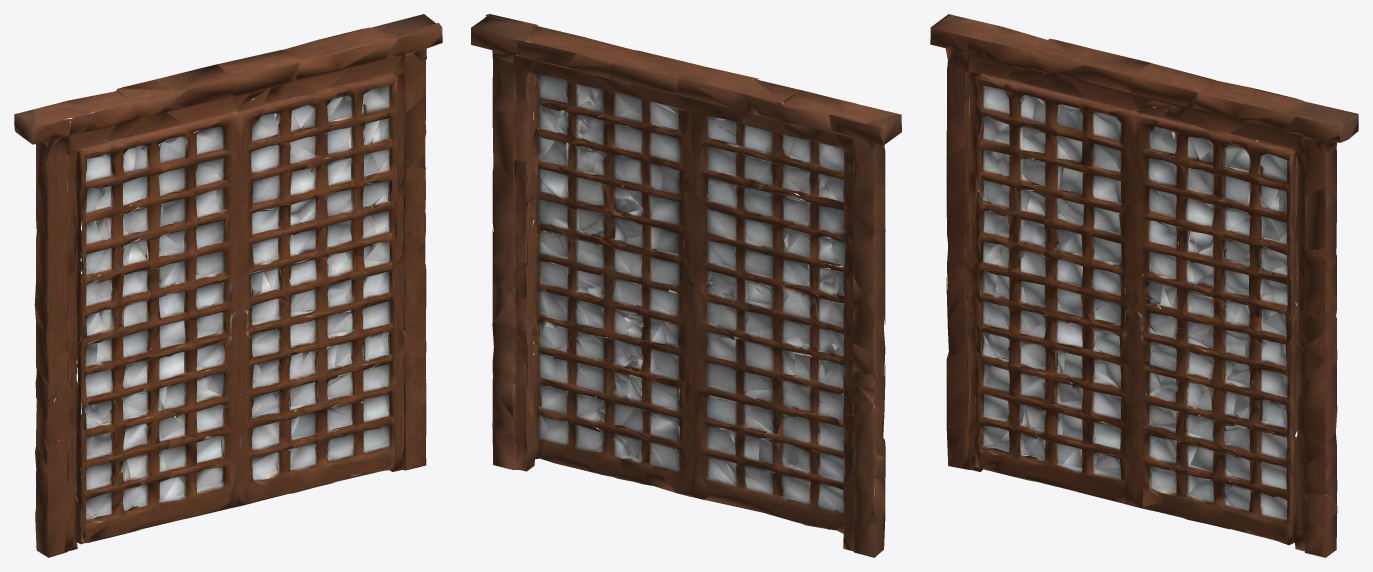
The model's file is shoji_door_dec.glb.
3 renders of one model, left to right at view 1: azimuth 30°, elevation 25°; view 2: azimuth 150°, elevation 25°; view 3: azimuth 330°, elevation 25°, orthographic.
Visible parts, largest first — view 1: Mesh_0.014; view 2: Mesh_0.014; view 3: Mesh_0.014.
Part boxes in pixels (x1,y1,x2,y2): Mesh_0.014: (14,14,442,557); Mesh_0.014: (471,14,901,557); Mesh_0.014: (930,14,1358,557).
Bounding box in the file's own units: 1.88 × 1.92 × 0.1699.
Materials: 1 (1 with a texture image).
